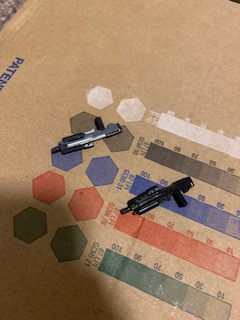rifle: (116, 177, 196, 215), (52, 117, 124, 156)
